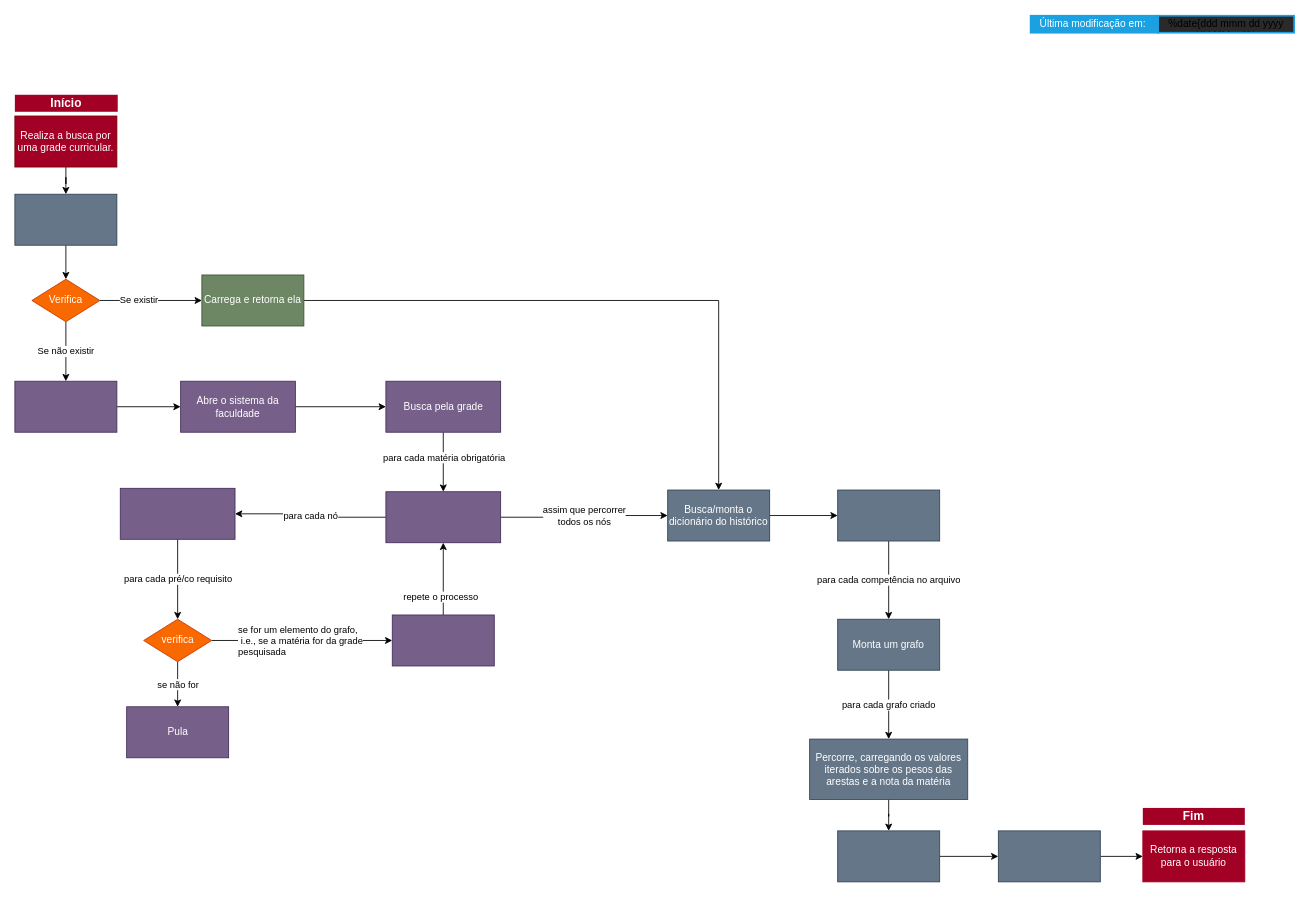
Image size: 1310x897. Some labels were removed from this diagram. Here are the shapes that lost their labels. From the top down, the centre of each, then its label:
At (65,219): "Verifica se a grade existe no banco".
At (65,406): "Carrega as credenciais".
At (177,513): "Prococura pelos pré e có requisitos no sistema".
At (443,517): "Adiciona ela como um nó do grafo. Carregando suas principais props".
At (888,515): "Carrega o arquivo com as competências referentes à grade".
At (442,640): "Cria a aresta".
At (888,856): "Carrega o arquivo com os valores do mercado".
At (1048,856): "Realiza o produto interno".
